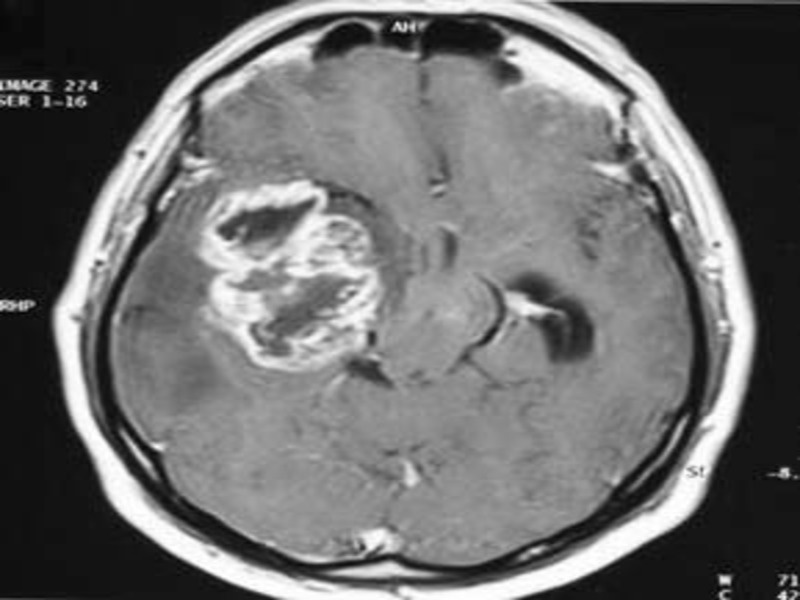tumor: (191, 175, 389, 382)
